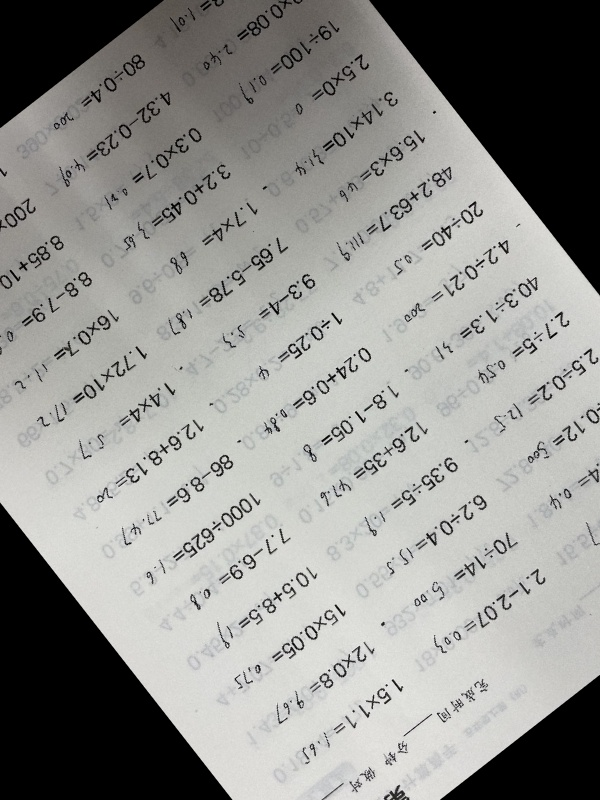equation: (323, 165, 455, 270), (0, 308, 119, 407), (166, 238, 284, 334), (58, 91, 173, 184), (146, 492, 262, 584), (31, 344, 146, 435), (119, 453, 234, 544), (120, 163, 231, 253), (94, 125, 205, 215), (236, 603, 347, 692), (261, 347, 372, 435), (95, 419, 204, 506), (404, 239, 513, 326), (436, 568, 545, 655), (409, 529, 516, 615), (322, 421, 429, 506), (293, 91, 397, 176), (435, 274, 540, 358), (495, 349, 599, 432), (299, 679, 403, 762), (239, 308, 342, 391), (46, 53, 148, 136), (385, 494, 488, 576), (201, 0, 315, 74), (214, 561, 316, 643), (273, 641, 376, 722), (237, 17, 337, 99), (191, 528, 291, 608), (216, 272, 315, 351), (79, 380, 177, 459), (0, 267, 89, 352), (331, 129, 426, 206), (164, 201, 259, 278), (304, 383, 398, 459), (364, 456, 458, 532), (393, 202, 485, 276), (479, 312, 571, 386), (527, 386, 600, 468), (0, 231, 63, 325), (290, 56, 372, 123), (546, 419, 600, 507), (170, 0, 284, 35), (0, 199, 36, 291), (586, 459, 600, 539), (0, 164, 7, 252)
